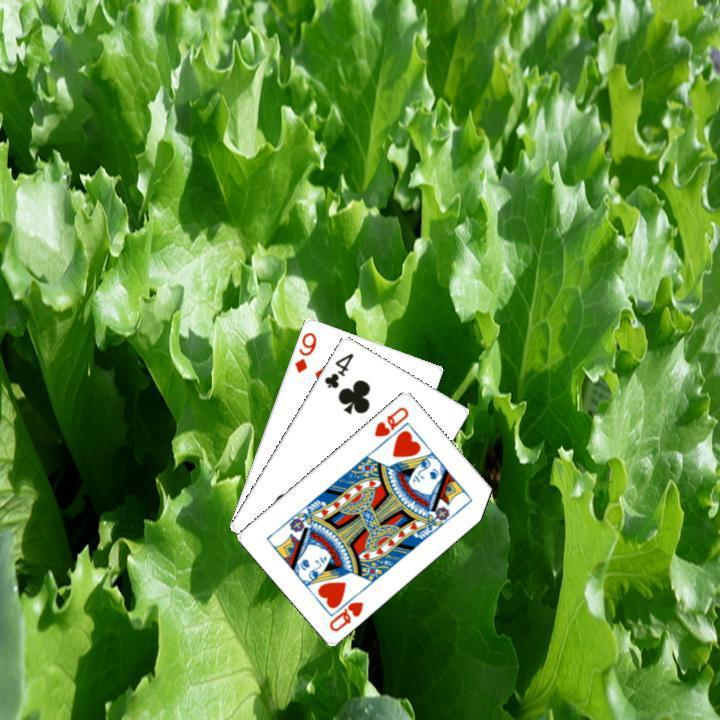4: (320, 348, 355, 390)
9: (290, 327, 319, 375)
Q: (324, 586, 366, 633), (369, 402, 411, 439)
